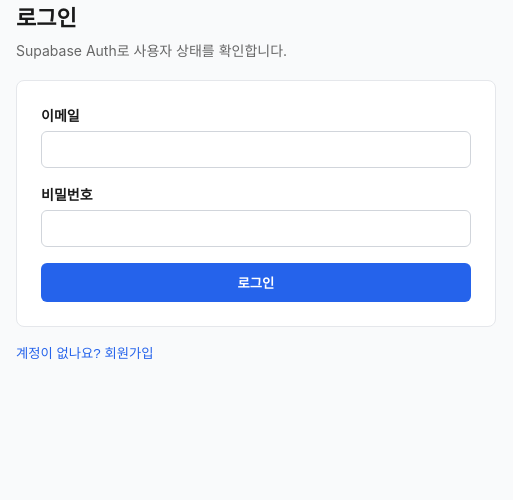
Test: LoginPage › 잘못된 이메일과 짧은 비밀번호를 Supabase에 보내지 않는다
Step 1. Type "wrong-address" into the field labelled "이메일" → (256, 150), box [41, 131, 471, 168]
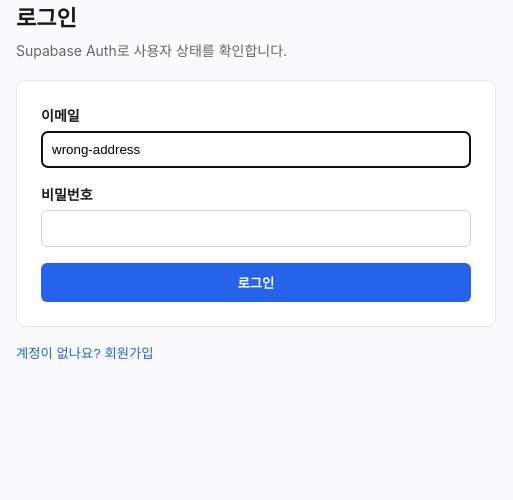
Step 2. Type "123" into the password field labelled "비밀번호" → (256, 228), box [41, 210, 471, 247]
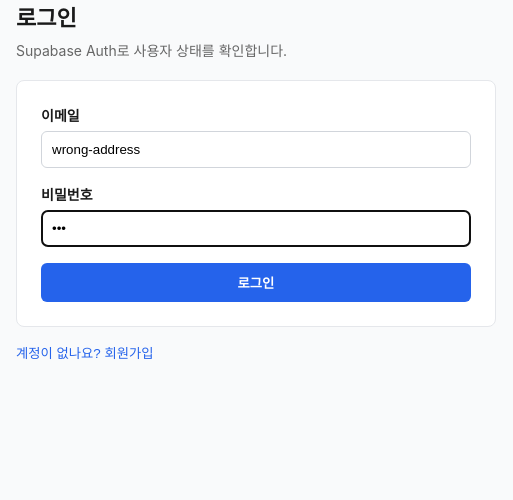
Step 3. Click the button "로그인" → (256, 282), box [41, 263, 471, 302]
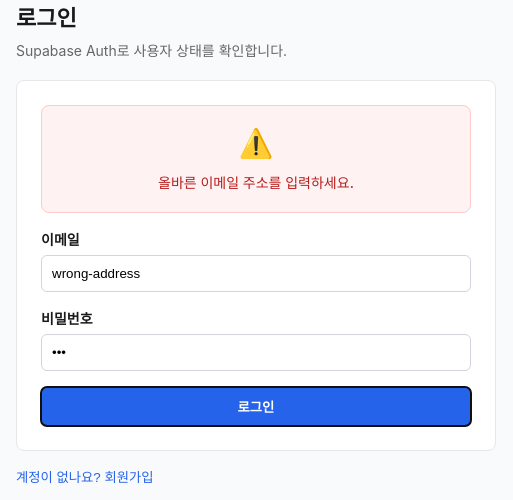
Expected: the text "올바른 이메일 주소를 입력하세요." is shown, [158, 172, 354, 192]
